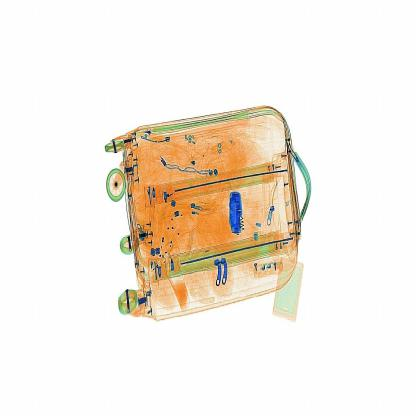scissors: (220, 182, 265, 248)
